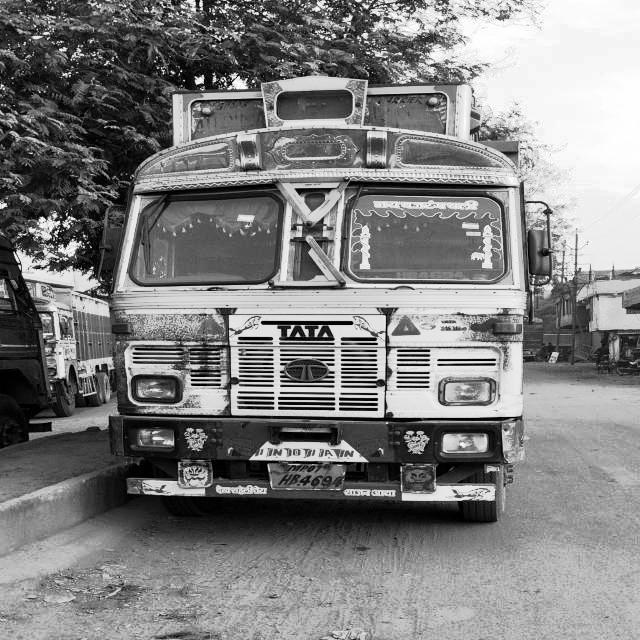HCV: (126, 139, 522, 539)
